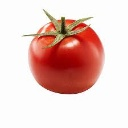tomato: (27, 19, 105, 94)
